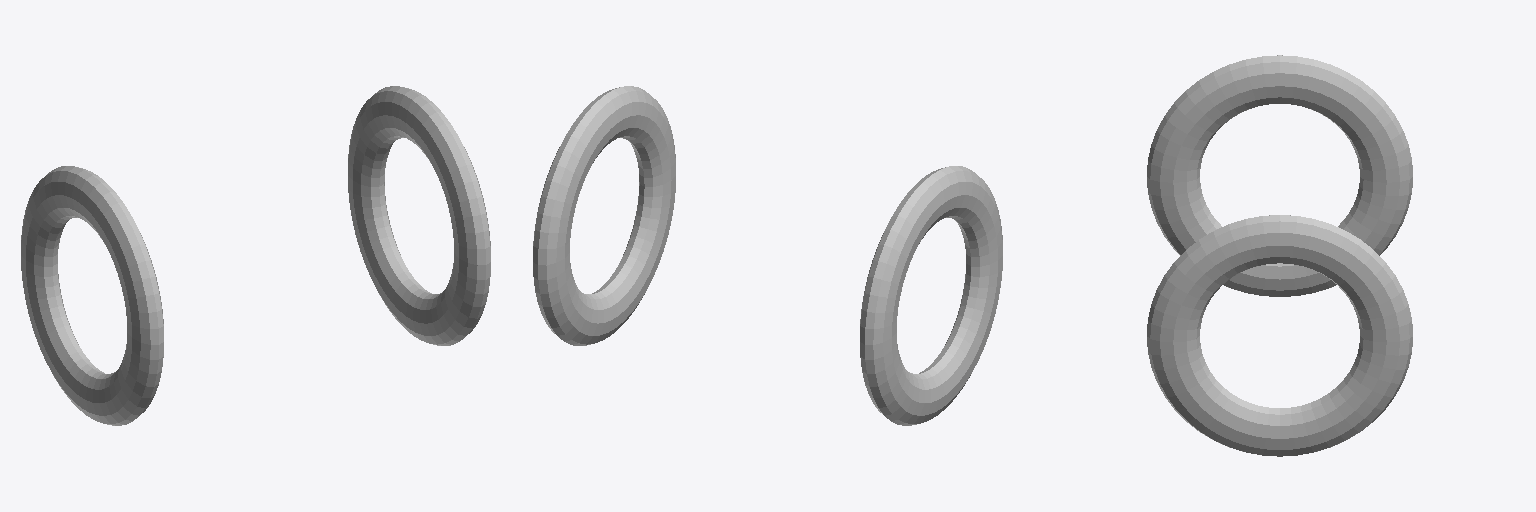
The model's file is HeaterEdge.obj.
3 renders of one model, left to right at view 1: azimuth 30°, elevation 25°; view 2: azimuth 150°, elevation 25°; view 3: azimuth 270°, elevation 25°, orthographic.
Visible parts, largest first — view 1: bianyuan, bianyuan.001; view 2: bianyuan, bianyuan.001; view 3: bianyuan, bianyuan.001.
Part boxes in pixels (x1,y1,x2,y2): bianyuan: (348, 86, 490, 345); bianyuan.001: (21, 166, 163, 425); bianyuan: (533, 86, 675, 345); bianyuan.001: (860, 166, 1002, 425); bianyuan: (1147, 215, 1412, 456); bianyuan.001: (1147, 55, 1412, 296).
Bounding box in the file's own units: 6.51 × 4.25 × 4.25.